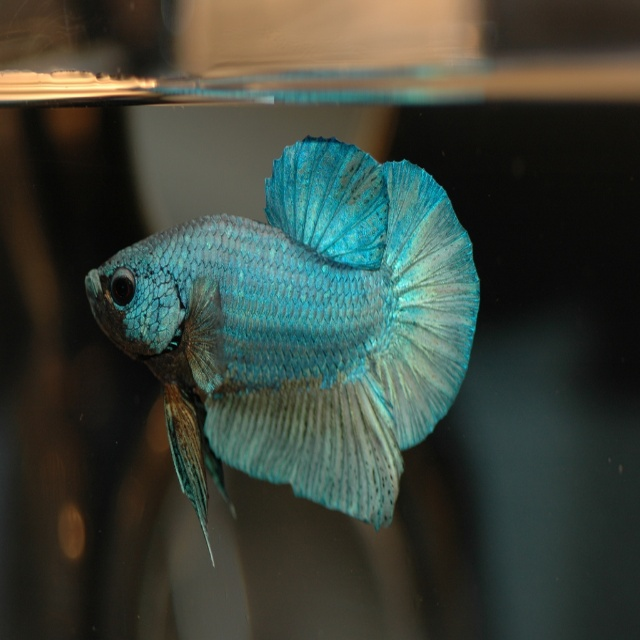Fish: (76, 128, 491, 551)
